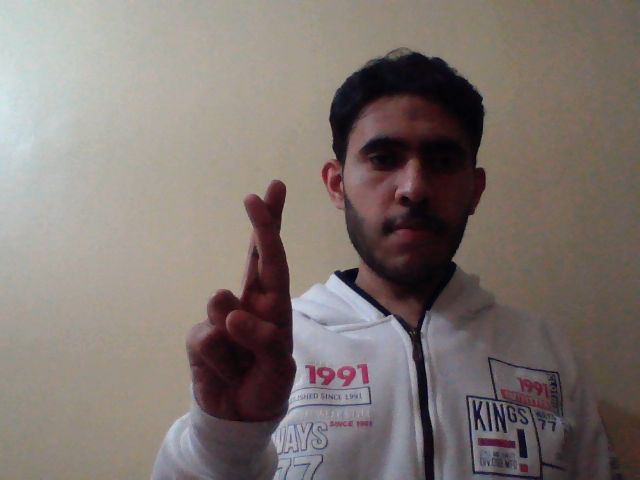R: (181, 176, 302, 431)
